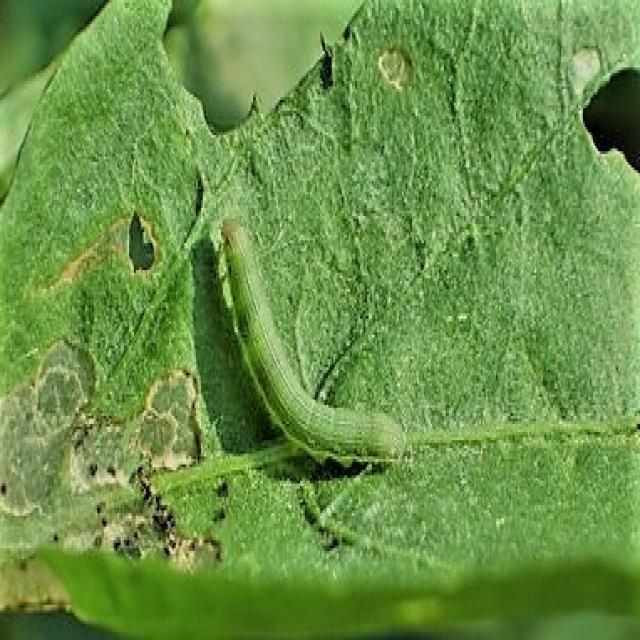armyworm: (218, 218, 414, 478)
